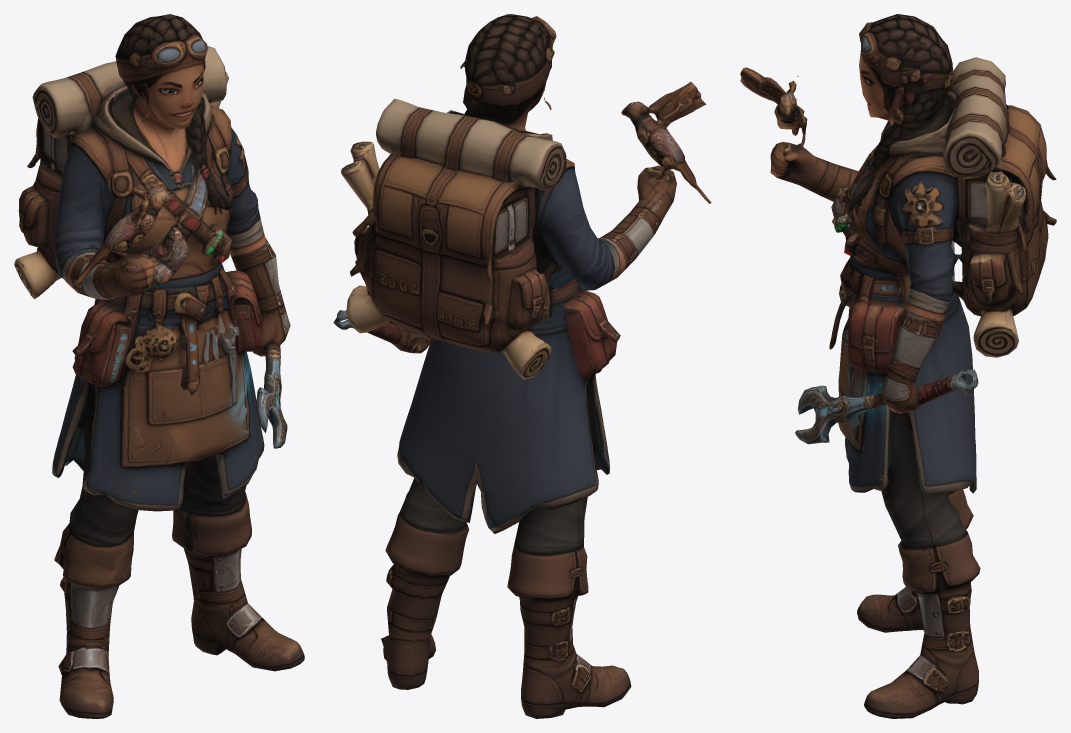
Rendered from Artificie Mulher.glb.
3 renders of one model, left to right at view 1: azimuth 30°, elevation 25°; view 2: azimuth 150°, elevation 25°; view 3: azimuth 270°, elevation 25°, orthographic. The views are drawn at different scales.
Visible parts, largest first — view 1: tripo_node_880ed0e1-5755-4bc9-b38d-e7887f725de9; view 2: tripo_node_880ed0e1-5755-4bc9-b38d-e7887f725de9; view 3: tripo_node_880ed0e1-5755-4bc9-b38d-e7887f725de9.
Boxes of the visible parts, x1,y1,x2,y2 form: tripo_node_880ed0e1-5755-4bc9-b38d-e7887f725de9: [14, 14, 304, 718]; tripo_node_880ed0e1-5755-4bc9-b38d-e7887f725de9: [333, 14, 711, 718]; tripo_node_880ed0e1-5755-4bc9-b38d-e7887f725de9: [740, 14, 1056, 718].
Bounding box in the file's own units: 0.447 × 0.9961 × 0.4438.
1 material, 1 textured.
